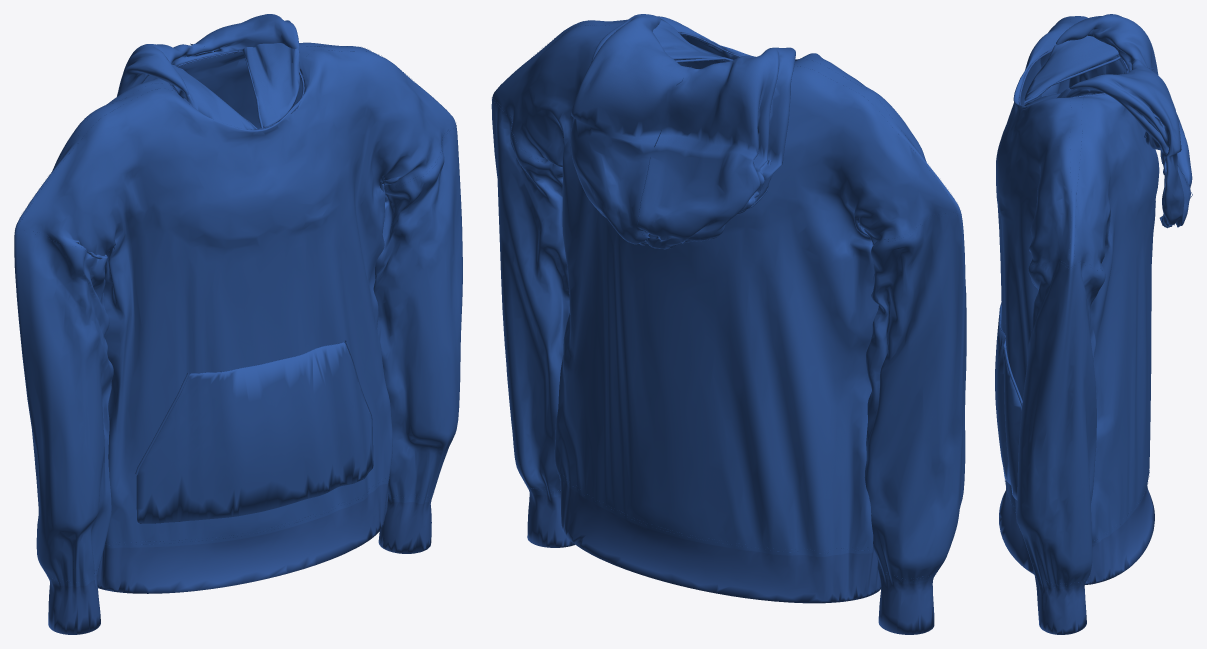
The model's file is hoodie.glb.
3 views of the same model, side by side, from view 1: azimuth 30°, elevation 25°; view 2: azimuth 150°, elevation 25°; view 3: azimuth 270°, elevation 25° (orthographic). The views are drawn at different scales.
Visible parts, largest first — view 1: Reversible hoodie - cloth, Kangaroo pouch - separate fabric panel, Two-panel hood with sewn crown; view 2: Reversible hoodie - cloth, Two-panel hood with sewn crown; view 3: Reversible hoodie - cloth, Two-panel hood with sewn crown, Kangaroo pouch - separate fabric panel, Hood opening turned hem.
Part boxes in pixels (box(x1,y1,x2,y2)): Reversible hoodie - cloth: box(14, 42, 462, 634); Kangaroo pouch - separate fabric panel: box(136, 342, 373, 523); Two-panel hood with sewn crown: box(117, 14, 300, 129); Reversible hoodie - cloth: box(491, 16, 966, 634); Two-panel hood with sewn crown: box(570, 14, 795, 249); Reversible hoodie - cloth: box(996, 16, 1159, 634); Two-panel hood with sewn crown: box(1024, 14, 1192, 227); Kangaroo pouch - separate fabric panel: box(995, 302, 1021, 500); Hood opening turned hem: box(1024, 56, 1167, 228).
Bounding box in the file's own units: 0.7221 × 0.8289 × 0.2951.
Materials: 3 (2 with a texture image).
